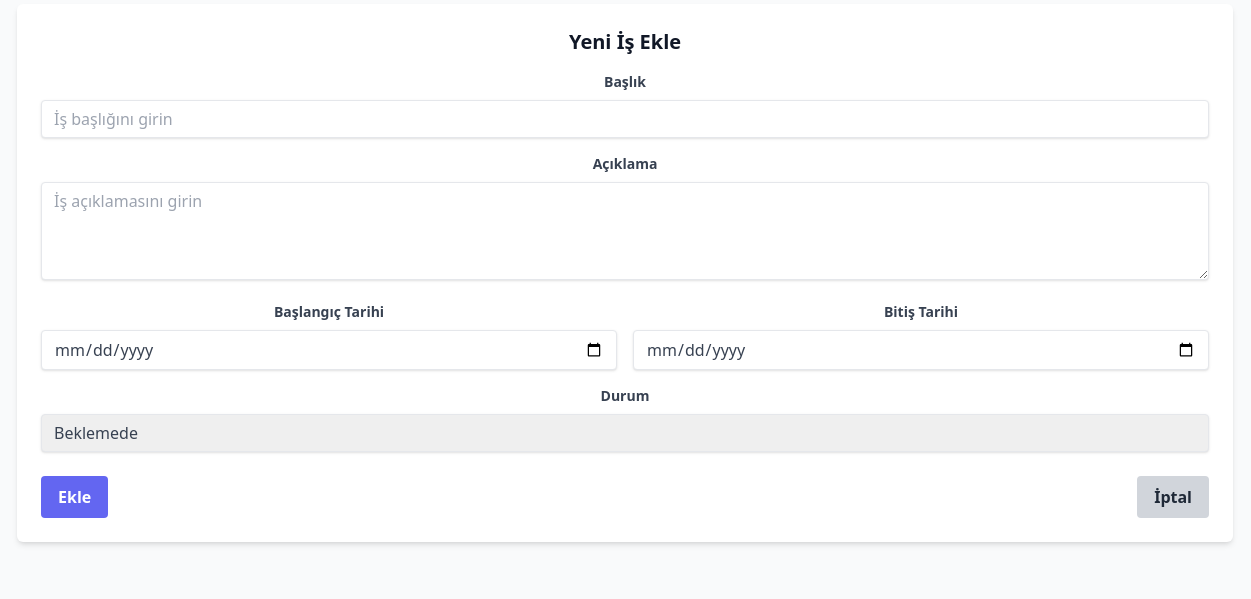
it: TaskForm.vue › validates date range
Step 1. Type "2023-03-30" into the date field with id "start_date" → [329, 350], box [41, 330, 617, 370]
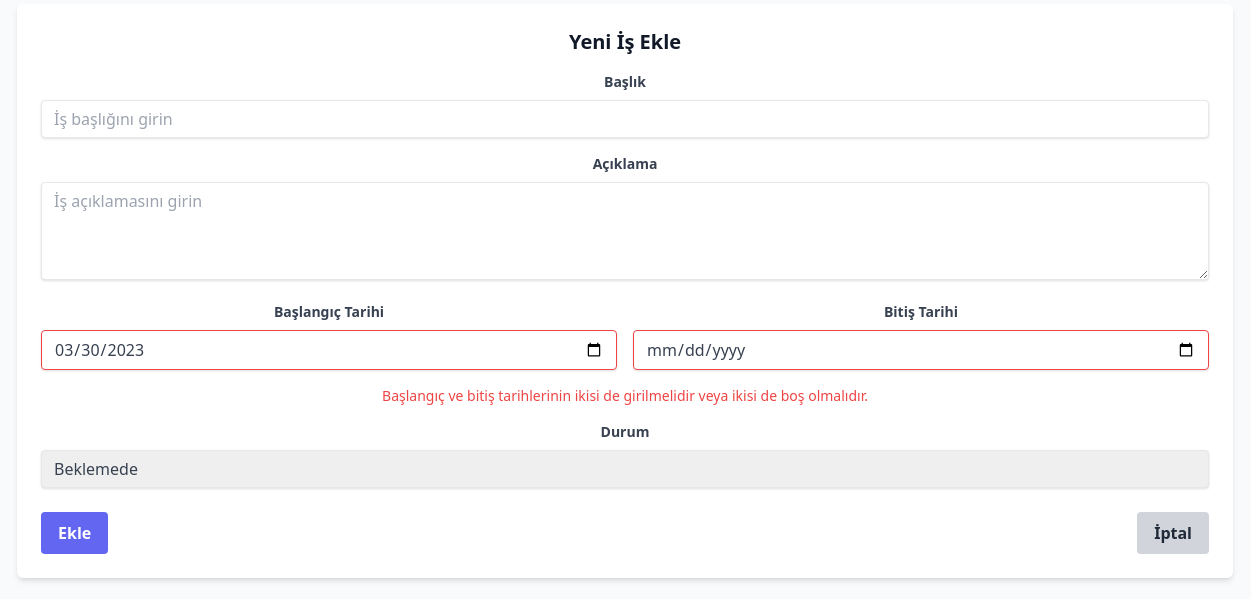
Step 2. Type "2023-03-25" into the date field with id "end_date" → [921, 350], box [633, 330, 1209, 370]
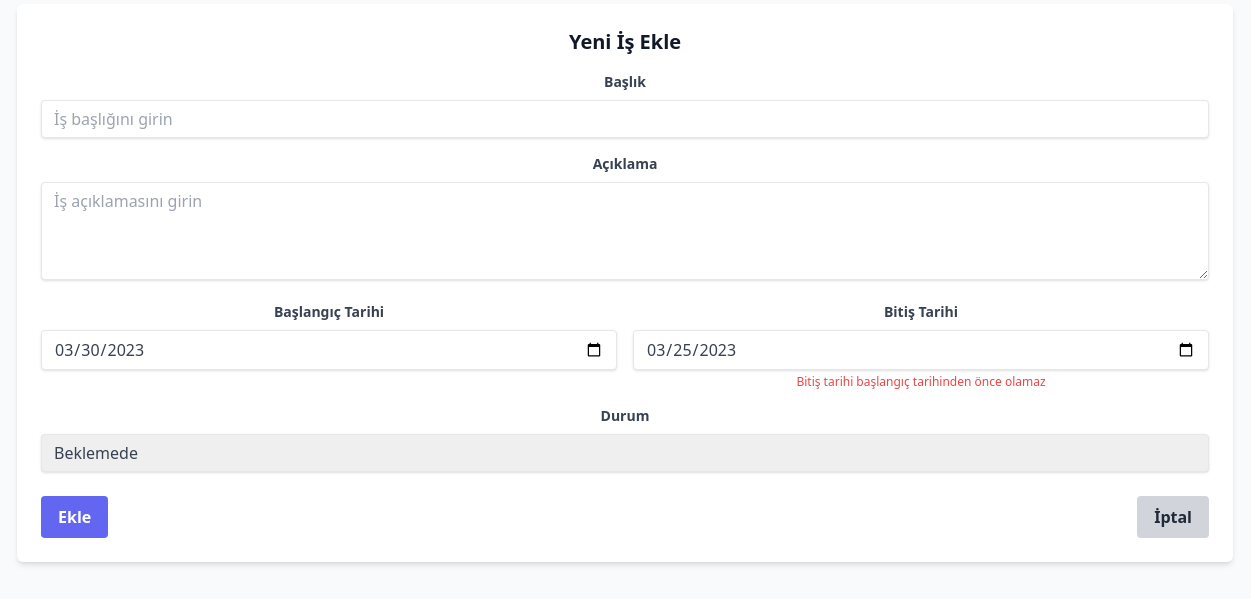
Now the text "Bitiş tarihi başlangıç tarihinden önce olamaz" is shown, box [796, 373, 1046, 390]
Now the submit button is disabled, box [41, 496, 108, 538]
